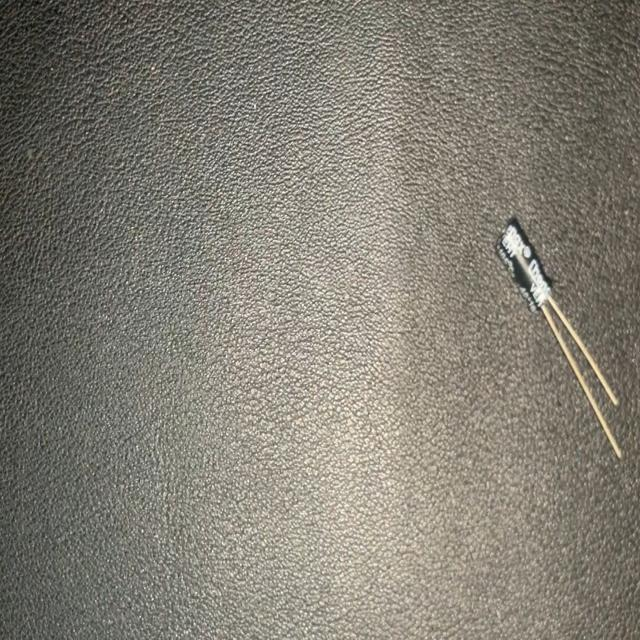capacitor: (492, 214, 621, 458)
